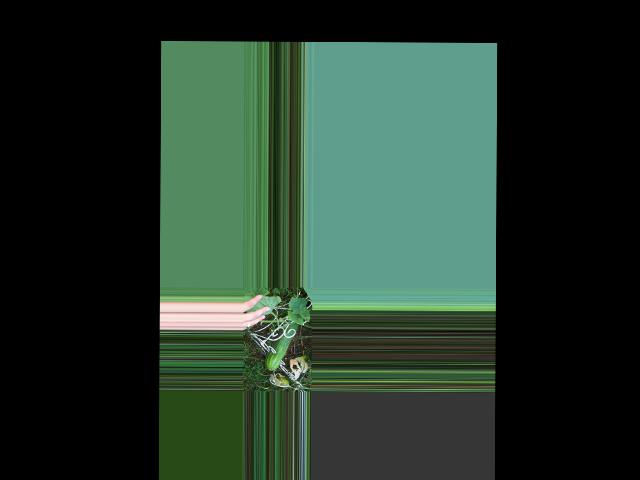cucumber: (264, 321, 298, 370)
